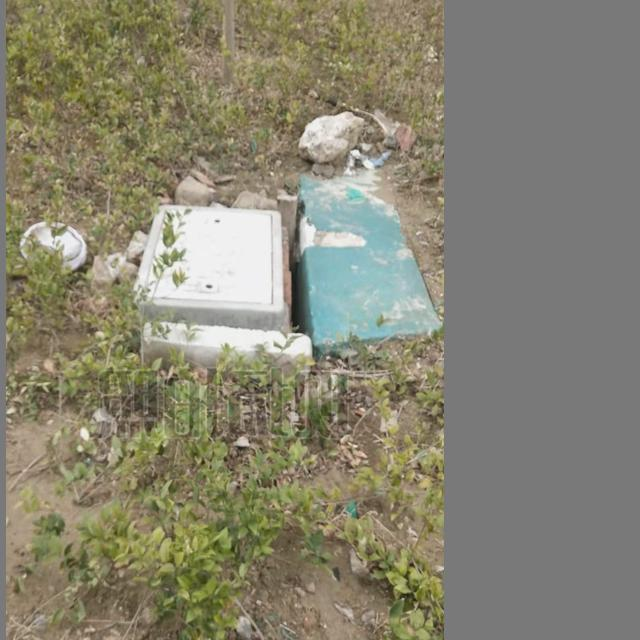circle: (122, 193, 316, 356)
